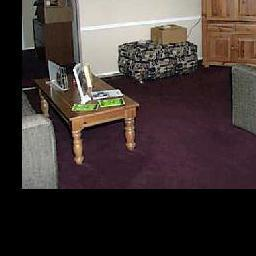Armario: (203, 0, 256, 62)
